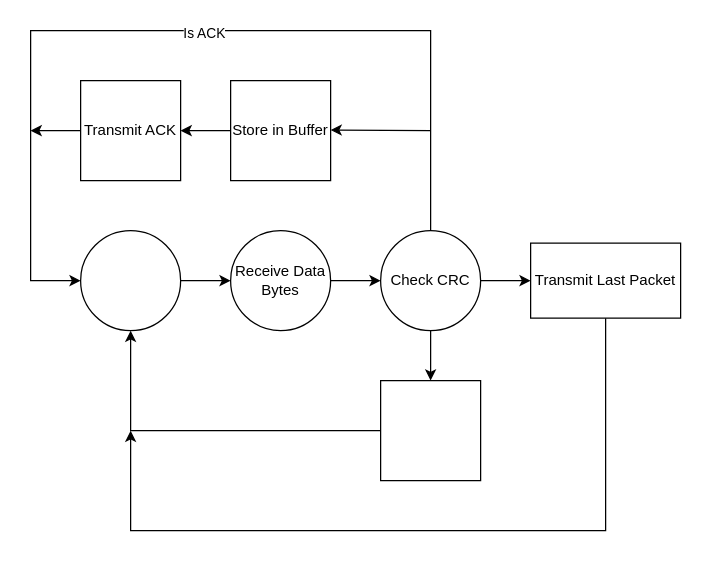
Some shapes in this 703 by 563 pixel diagram are drawn without their labels. The centre of each missing label's shape, as x and y in pixels:
"Receive Length Byte" goes at point (130, 280).
"Request Re-Transmit" goes at point (430, 430).
